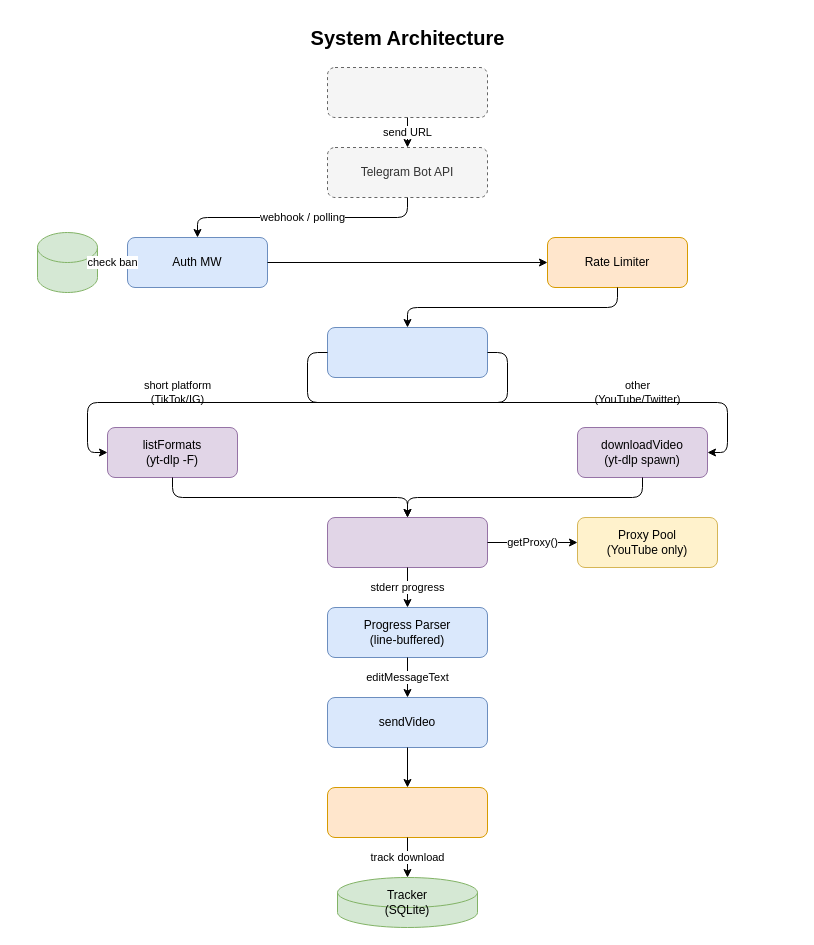
Some shapes in this 814 by 945 pixel diagram are drawn without their labels. The box of each missing label's shape, as (x1, y1, x2, y2) in pixels:
Cleanup (unlink file): (326, 786, 488, 838)
Download Handler: (326, 326, 488, 378)
SQLite (bans): (36, 232, 98, 292)
User: (326, 66, 488, 118)
yt-dlp process --proxy / --tor / direct: (326, 516, 488, 568)
